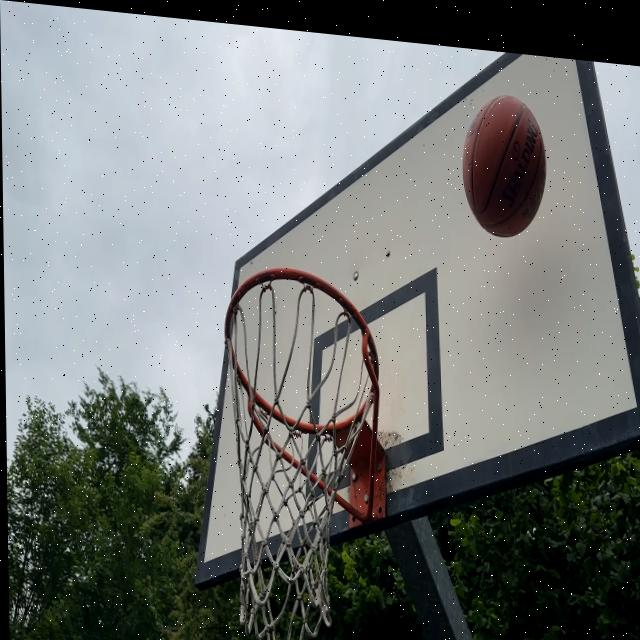Basketball: (462, 90, 547, 240)
